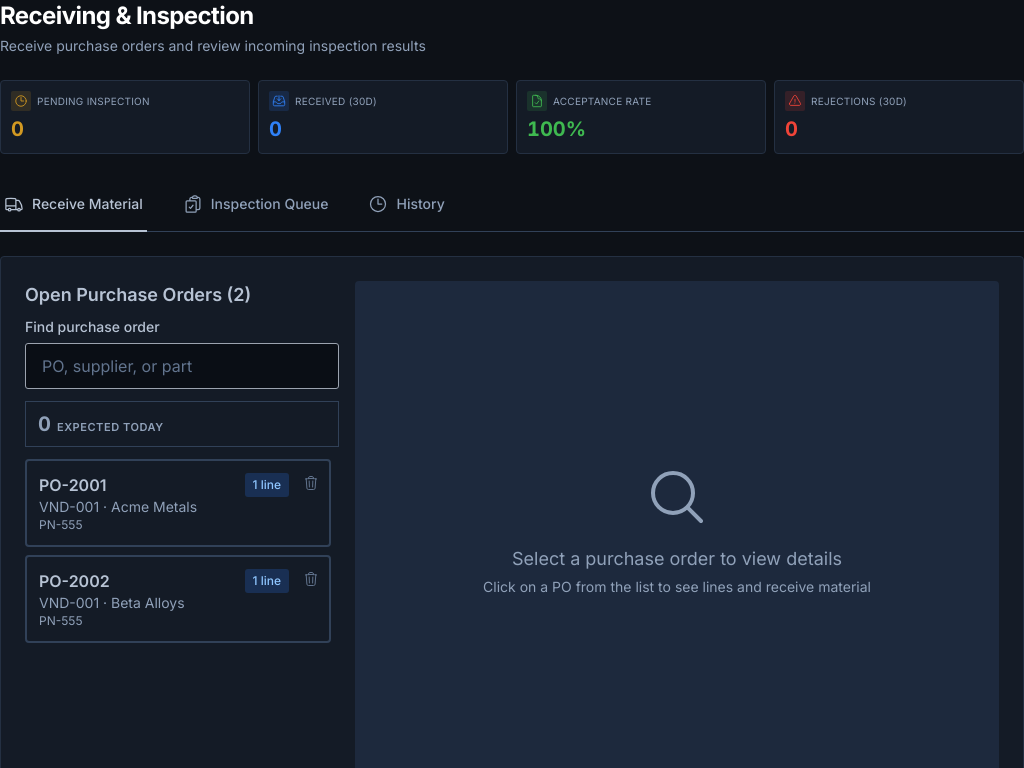
Receiving — deleting an open PO › surfaces the 400 received-material detail VERBATIM and leaves the card in place
Check: the text "PO-2001" is shown, box [39,475,106,495]
Click the button named "Delete purchase order PO-2001" at (311, 483), box [297,469,325,497]
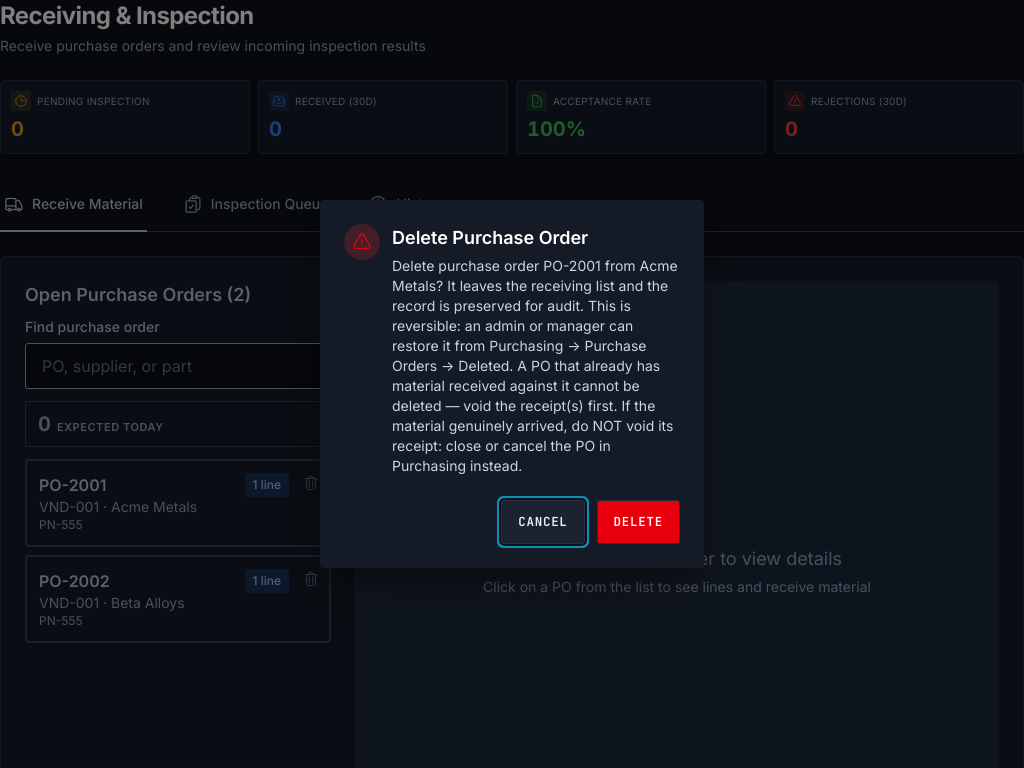
Click the button "Delete" at (638, 522), box [597,500,680,544]
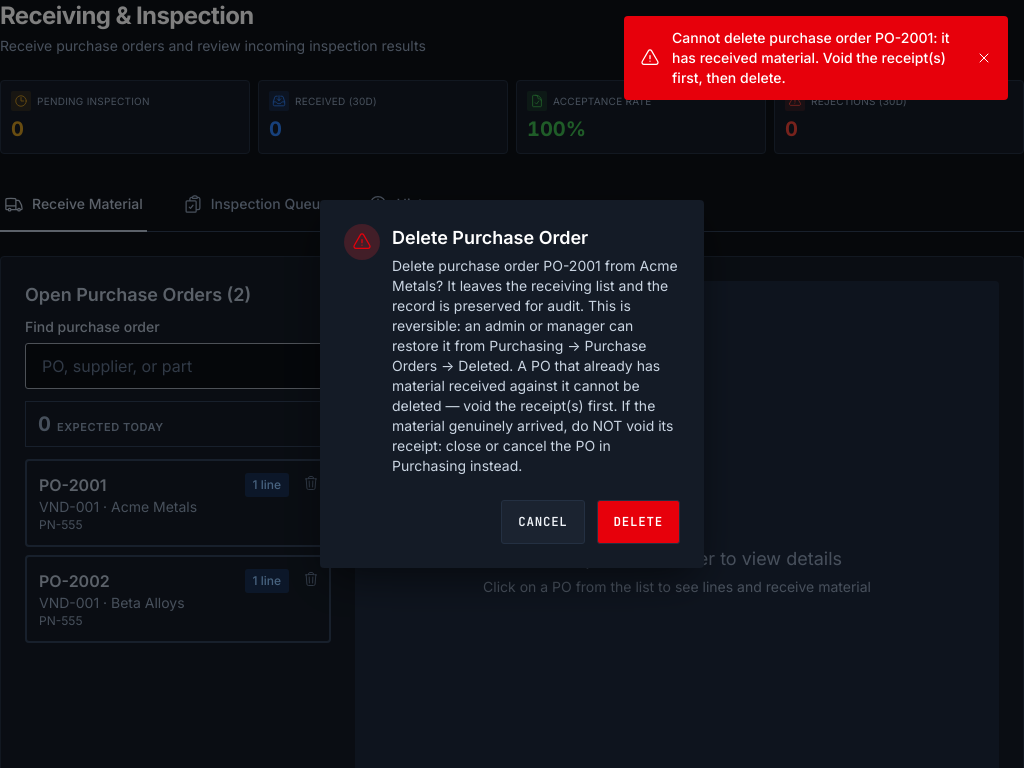
Check: the dialog is shown, box [320,200,704,568]
Check: the text "Cannot delete purchase order PO-2001: it has received material. Void the receipt(s) first, then delete." is shown, box [672,29,950,86]
